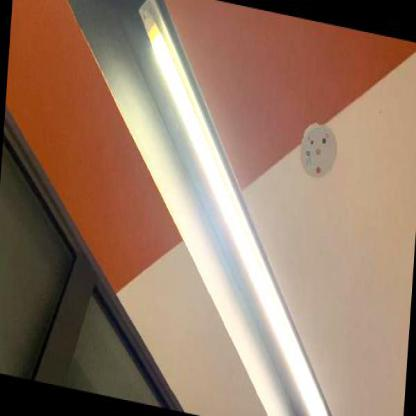light_on: (103, 0, 366, 415)
